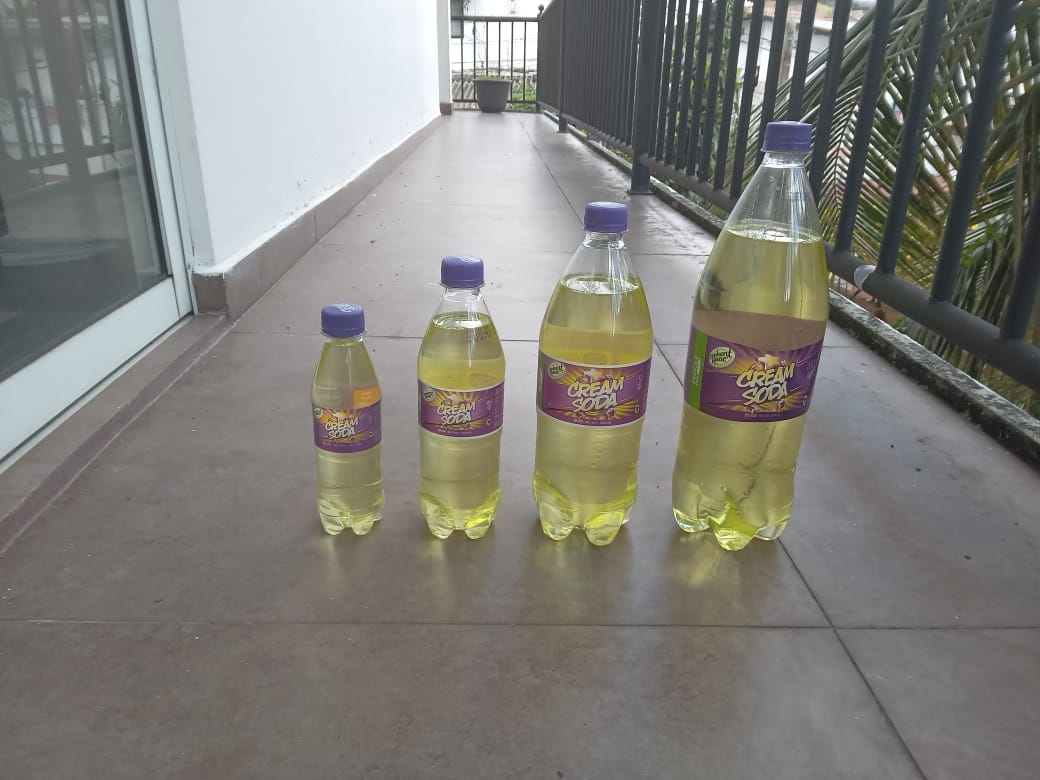L: (668, 121, 833, 552)
M: (531, 199, 652, 548)
S: (413, 255, 506, 543)
Xs: (303, 305, 390, 538)
